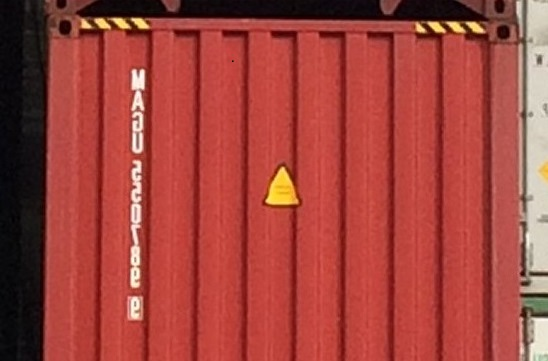container_no_door: (48, 10, 522, 361)
